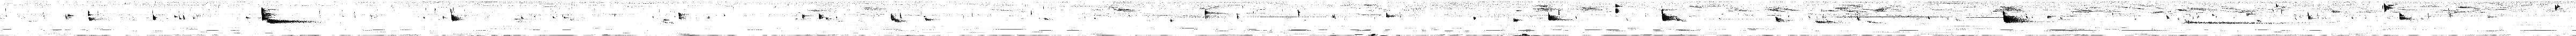meteor: (261, 8, 314, 25), (2003, 10, 2034, 23), (1661, 10, 1684, 23), (890, 13, 907, 23), (1548, 13, 1569, 20), (450, 11, 462, 21), (1776, 16, 1792, 23), (2399, 11, 2412, 20), (1204, 10, 1224, 15), (89, 16, 103, 21), (2384, 3, 2392, 11), (1815, 20, 1835, 23), (678, 13, 687, 20), (923, 16, 933, 21), (1387, 13, 1396, 18), (818, 13, 825, 20), (1615, 8, 1621, 15), (87, 10, 94, 16), (1615, 3, 1623, 8), (153, 13, 158, 20), (1513, 18, 1520, 23), (182, 15, 186, 21), (2167, 15, 2170, 20), (174, 15, 177, 18), (245, 16, 251, 18), (179, 15, 181, 20)
